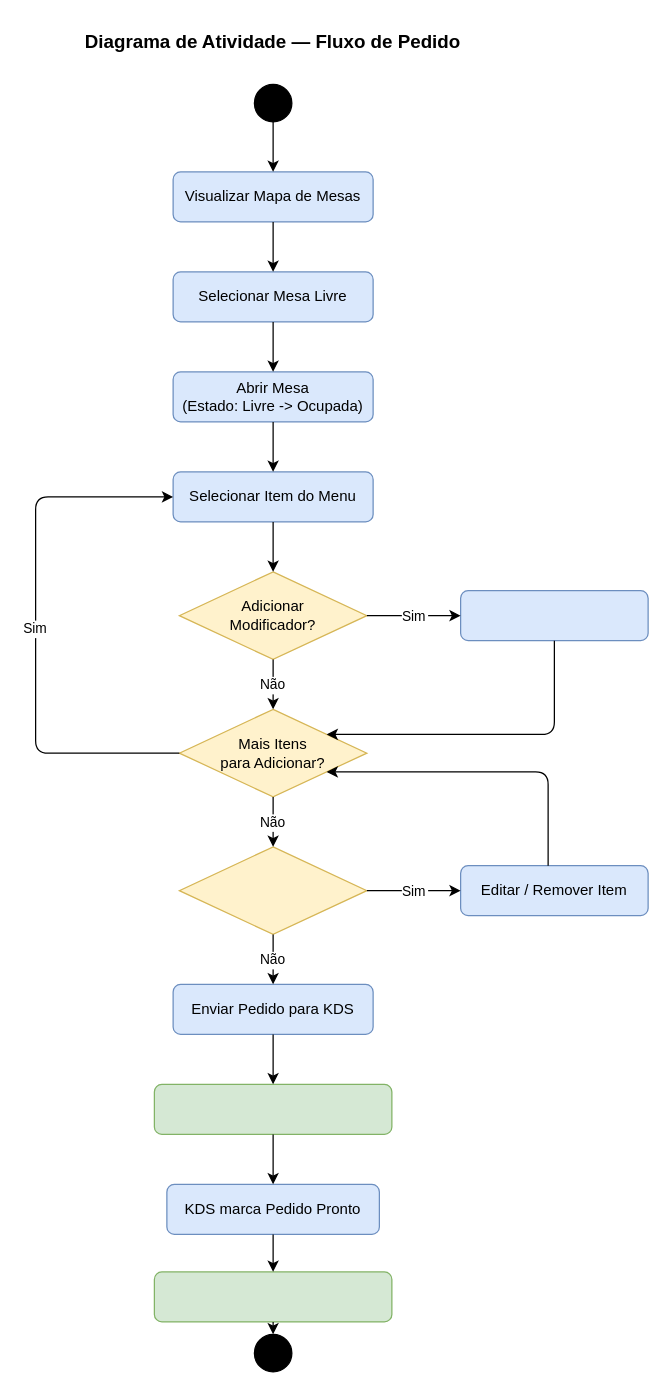
The diagram is 670 pixels wide and 1394 high, and some of its shapes have lost their labels. Here are the shapes that lost their labels. From the top down, the centre of each, then its label:
At point (553, 615): "Adicionar Modificador".
At point (272, 890): "Cancelar ou Editar Item?".
At point (272, 1108): "Sistema Regista Pedido".
At point (272, 1296): "Sistema Abate Stock Automaticamente".
